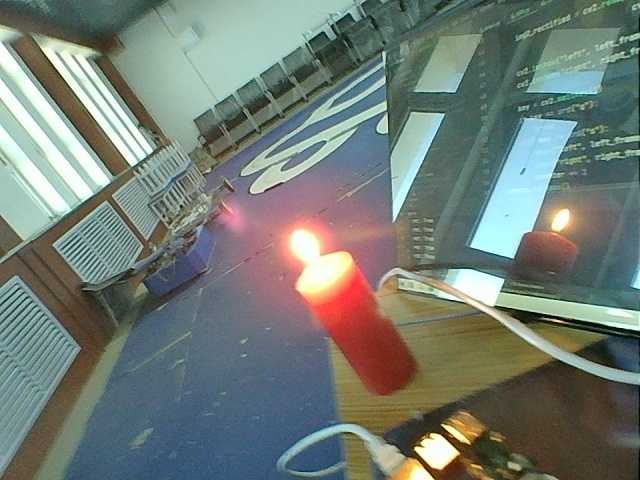candle: (275, 259, 429, 404), (515, 230, 577, 277)
fire: (279, 228, 331, 271), (545, 206, 576, 238)
